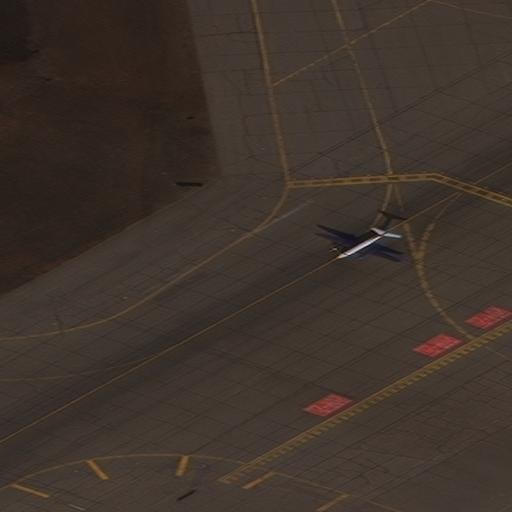Medium Civil Transport: (316, 230, 398, 262)
